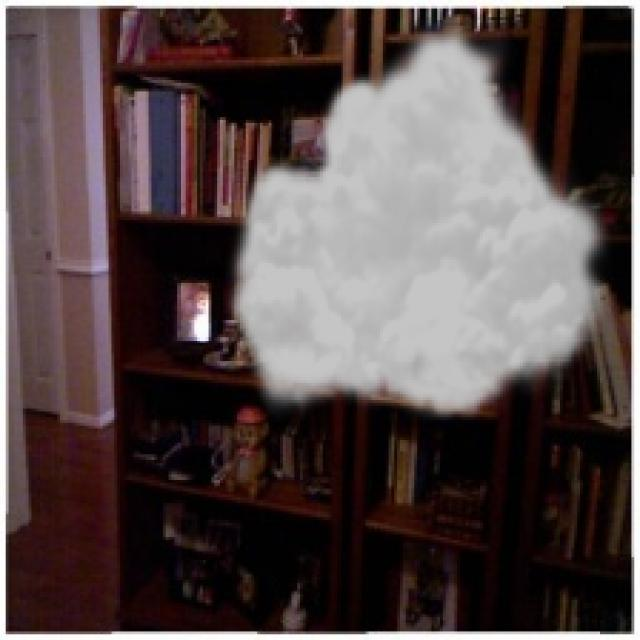Smoke: (222, 17, 618, 423)
